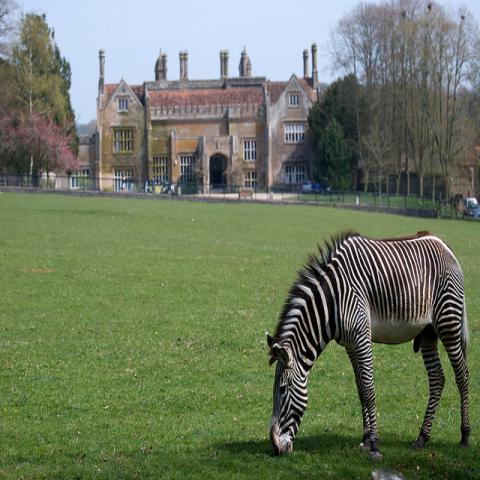car: (141, 180, 170, 194), (463, 197, 480, 216), (312, 180, 327, 195), (302, 180, 312, 194)
